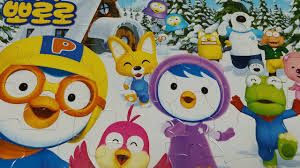Harry: (70, 103, 173, 168)
Loopy: (281, 48, 300, 112)
Petty: (149, 52, 236, 168)
Pororo: (1, 35, 110, 168)
